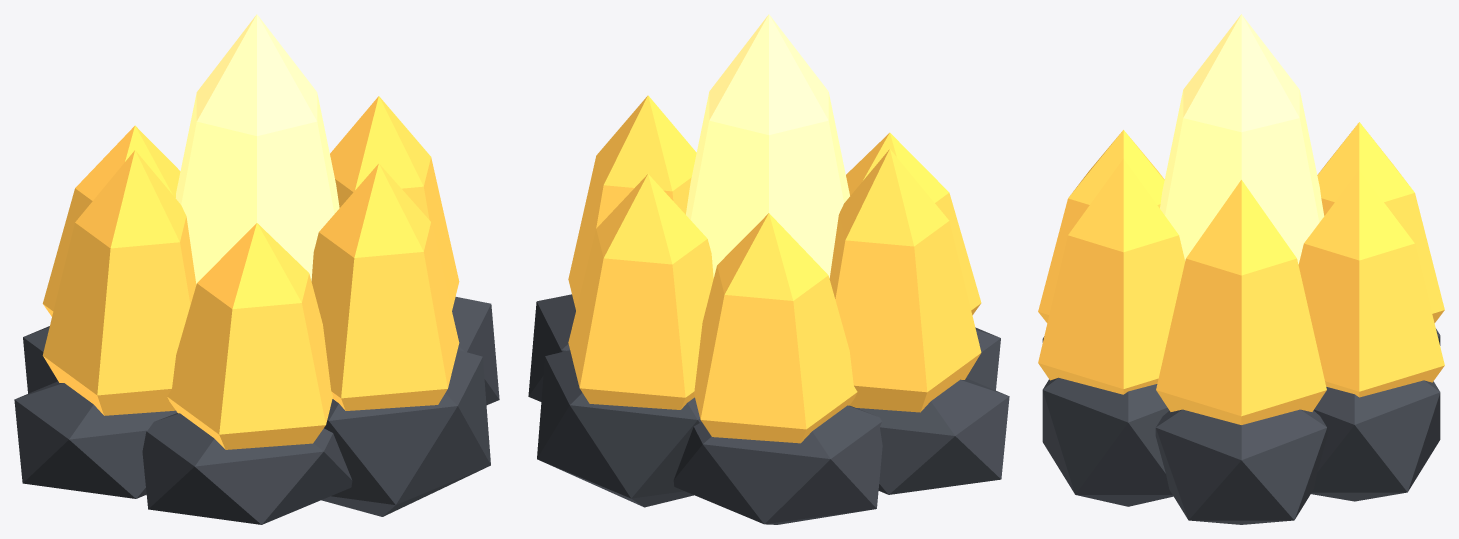
The model's file is earth_crystal_node.fbx.
The picture shows the model from 3 angles, left to right: view 1: azimuth 30°, elevation 25°; view 2: azimuth 150°, elevation 25°; view 3: azimuth 270°, elevation 25°; orthographic projection. The views are drawn at different scales.
Parts seen in each view (by area): view 1: Earth_Crystal.002, Earth_Bedrock.002, Earth_Glow.002; view 2: Earth_Crystal.002, Earth_Bedrock.002, Earth_Glow.002; view 3: Earth_Crystal.002, Earth_Bedrock.002, Earth_Glow.002.
Boxes of the visible parts, box(x1,y1,x2,y2) form: Earth_Crystal.002: box(42, 96, 459, 449); Earth_Bedrock.002: box(14, 297, 499, 524); Earth_Glow.002: box(175, 14, 339, 284); Earth_Crystal.002: box(568, 95, 981, 443); Earth_Bedrock.002: box(528, 294, 1009, 524); Earth_Glow.002: box(686, 14, 849, 278); Earth_Crystal.002: box(1038, 122, 1444, 424); Earth_Bedrock.002: box(1042, 329, 1440, 524); Earth_Glow.002: box(1160, 14, 1324, 264).
Bounding box in the file's own units: 192 × 187 × 149.
